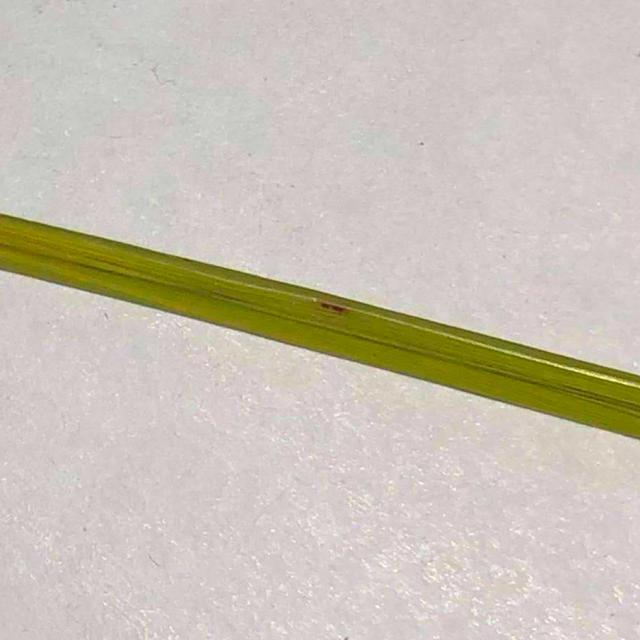brownspots: (311, 293, 350, 322)
